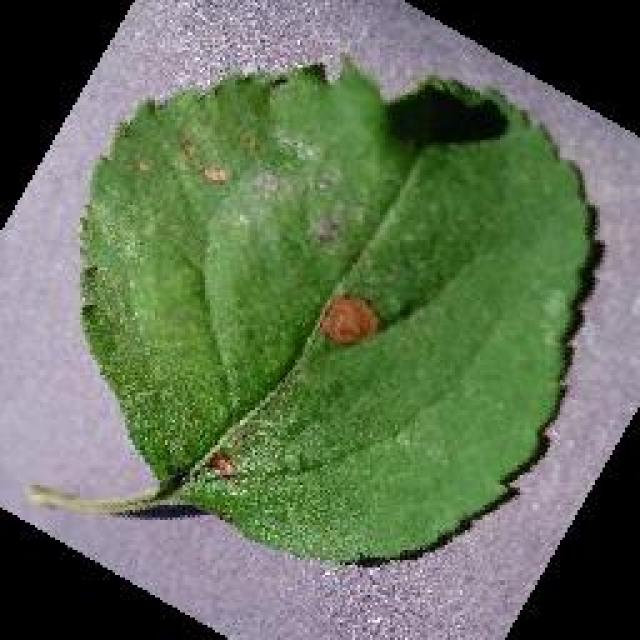black_rot: (314, 286, 394, 356), (185, 435, 239, 483), (306, 208, 355, 250), (189, 152, 238, 192)
